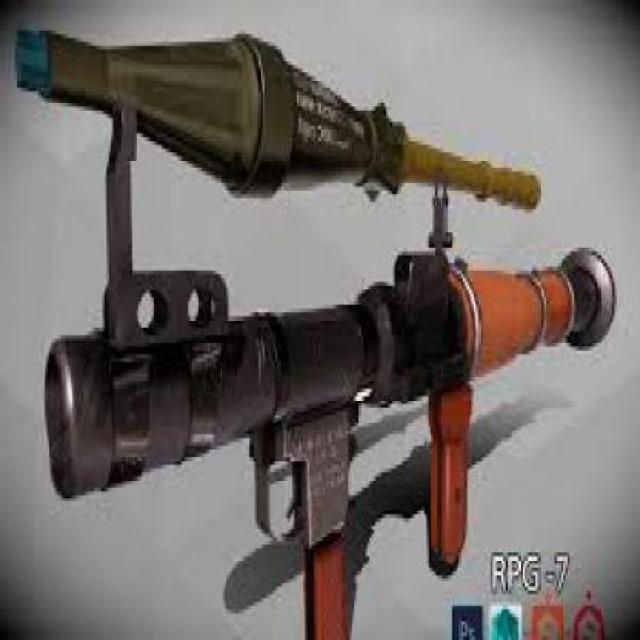weapon: (22, 13, 588, 219)
